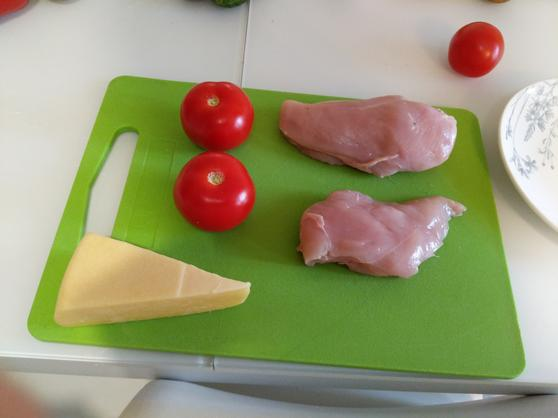cheese: (50, 232, 251, 324)
chicken_fillet: (302, 187, 472, 281), (277, 93, 459, 175)
tomato: (168, 150, 257, 232), (184, 78, 257, 145), (448, 18, 508, 82)
